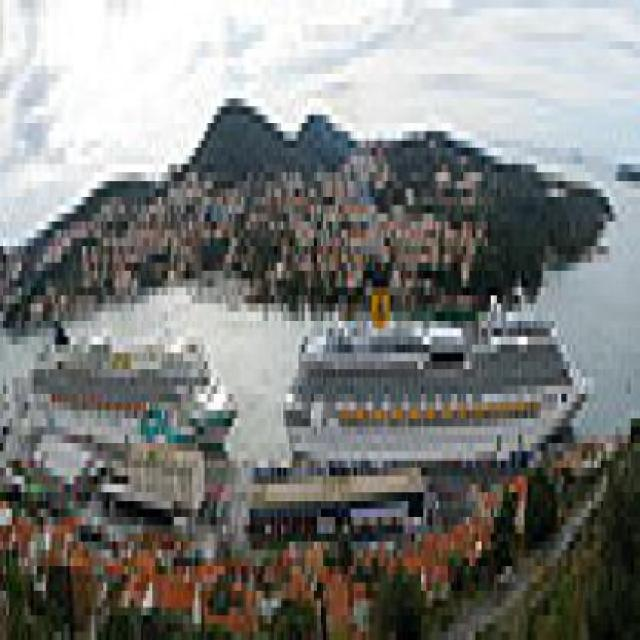cruise: (269, 255, 602, 493), (22, 296, 245, 469)
